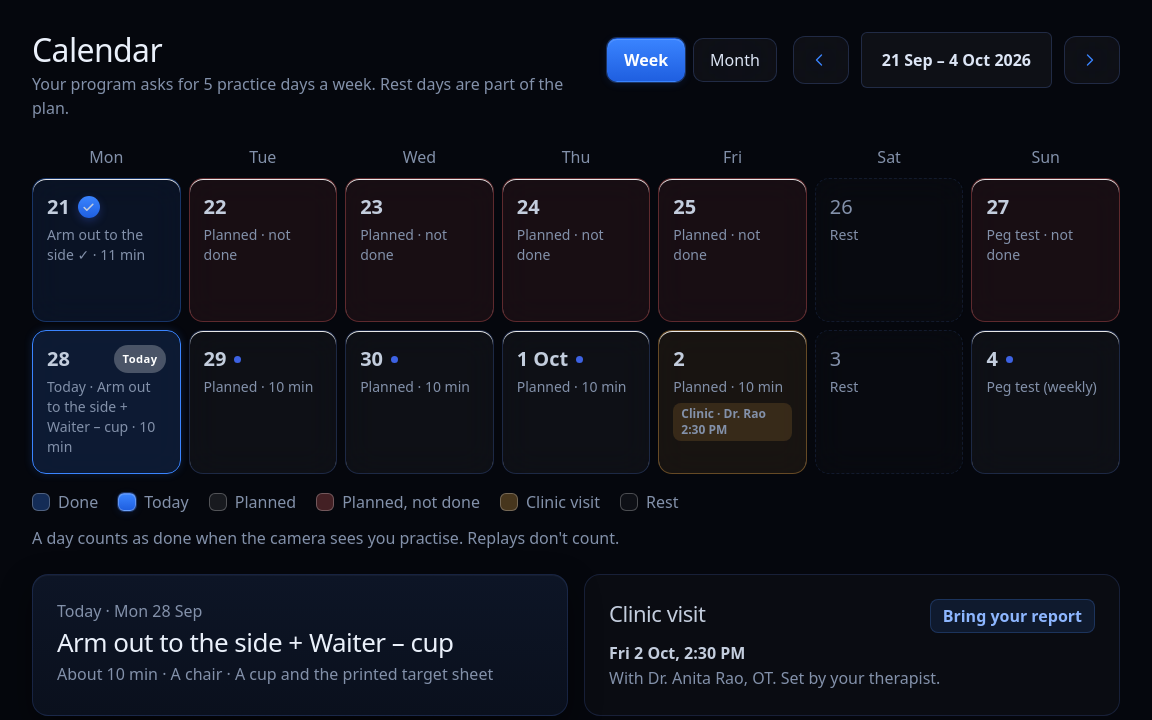
Test: ‹ › move a week at a time
Check: the text "21 Sep – 4 Oct 2026" is shown, box top-left (861, 32), bottom-right (1052, 88)
Click the button named "Previous week" at (821, 60), box top-left (793, 36), bottom-right (849, 84)
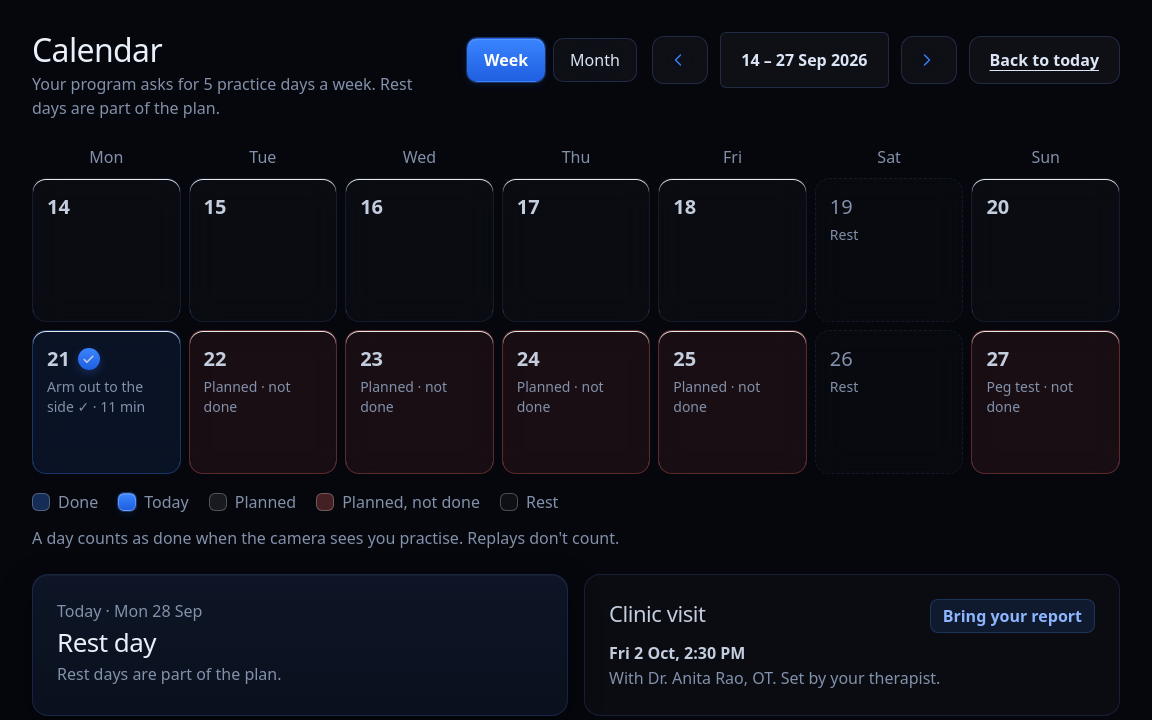
Check: the text "14 – 27 Sep 2026" is shown, box top-left (720, 32), bottom-right (889, 88)
Click the button named "Next week" at (928, 60), box top-left (900, 36), bottom-right (956, 84)
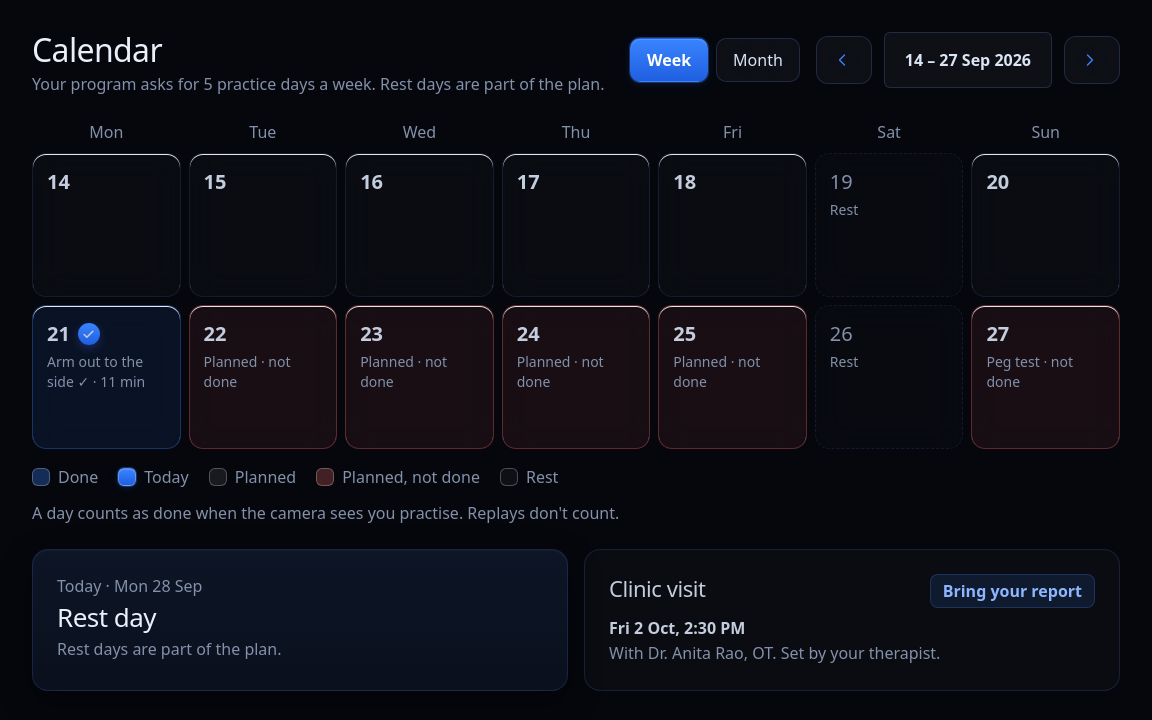
Click the button named "Next week" at (1092, 60), box top-left (1064, 36), bottom-right (1120, 84)
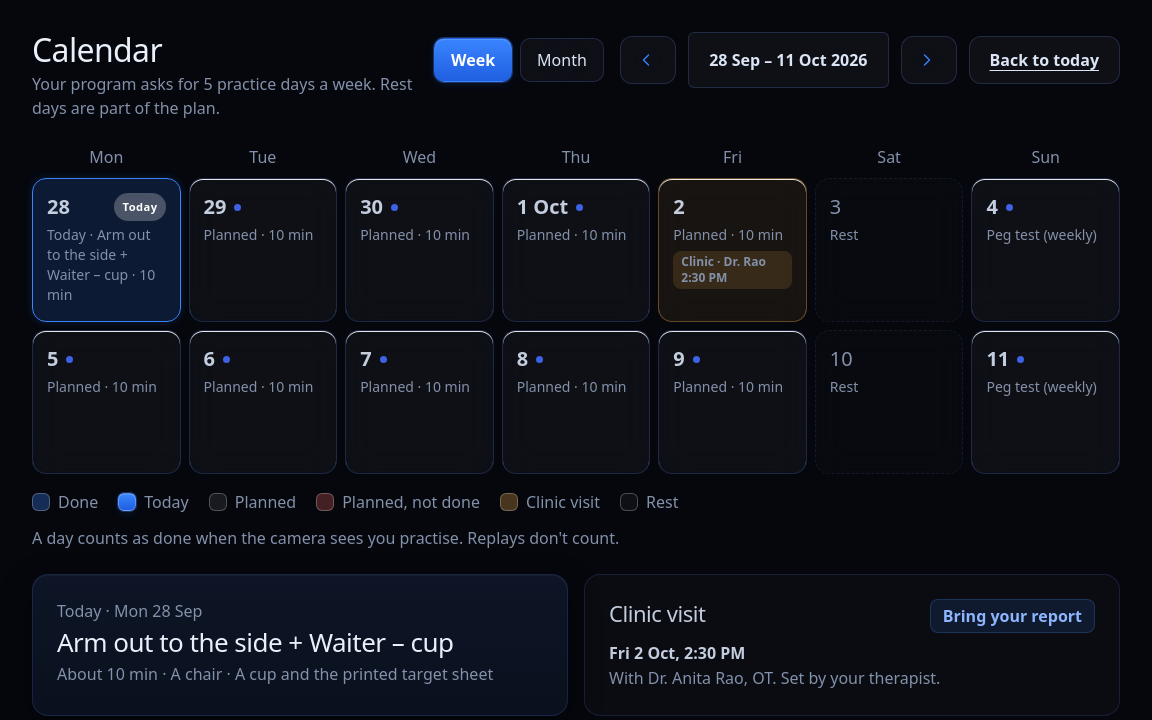
Check: the text "28 Sep – 11 Oct 2026" is shown, box top-left (688, 32), bottom-right (888, 88)
Click the button "Back to today" at (1044, 60), box top-left (968, 36), bottom-right (1120, 84)
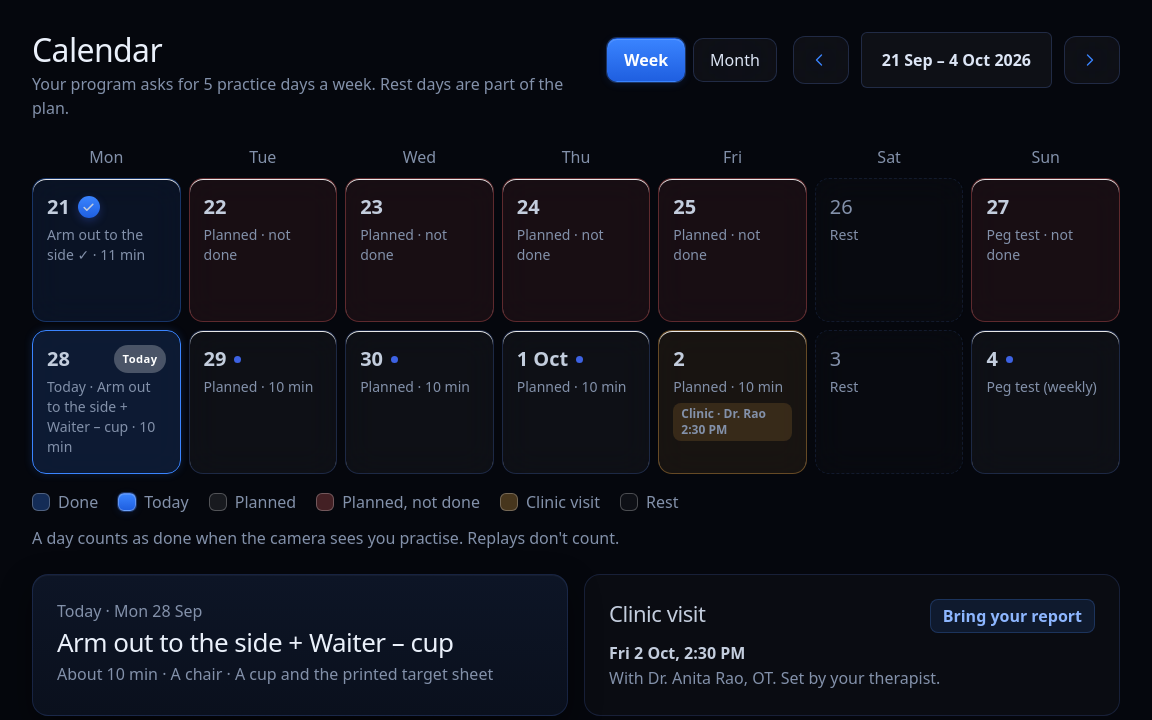
Check: the text "21 Sep – 4 Oct 2026" is shown, box top-left (861, 32), bottom-right (1052, 88)
